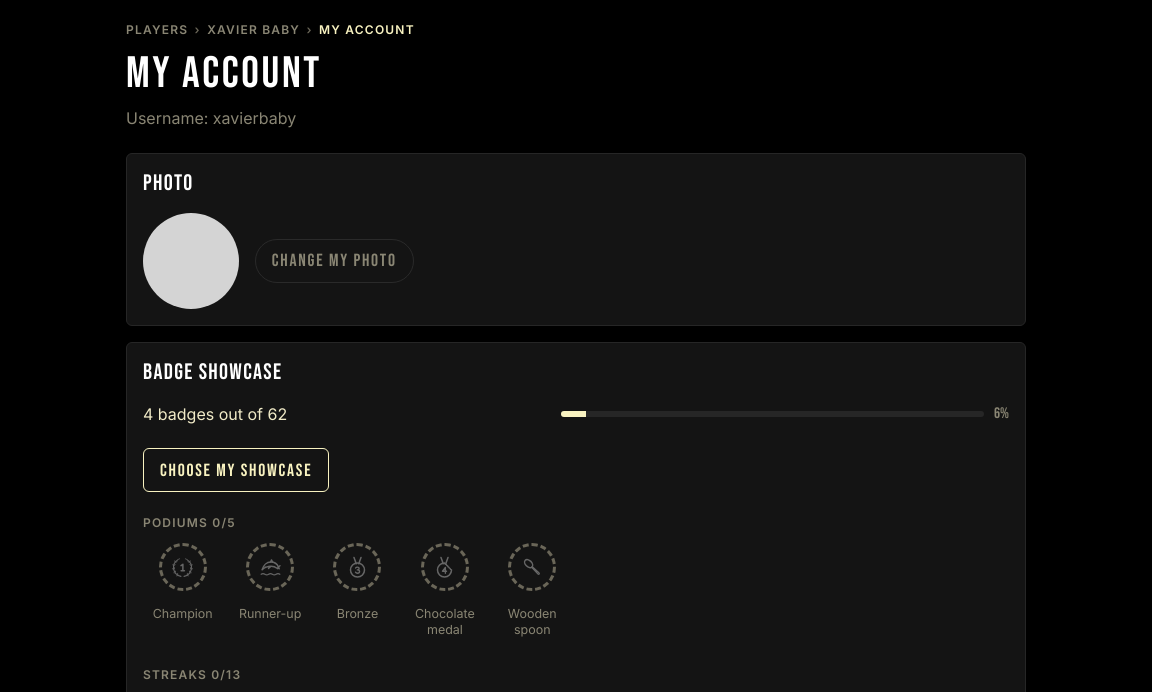
Test: account page › opens the photo editor from the photo section
Click the button "Change my photo" at (334, 261), box x1=255 y1=239 x2=414 y2=283
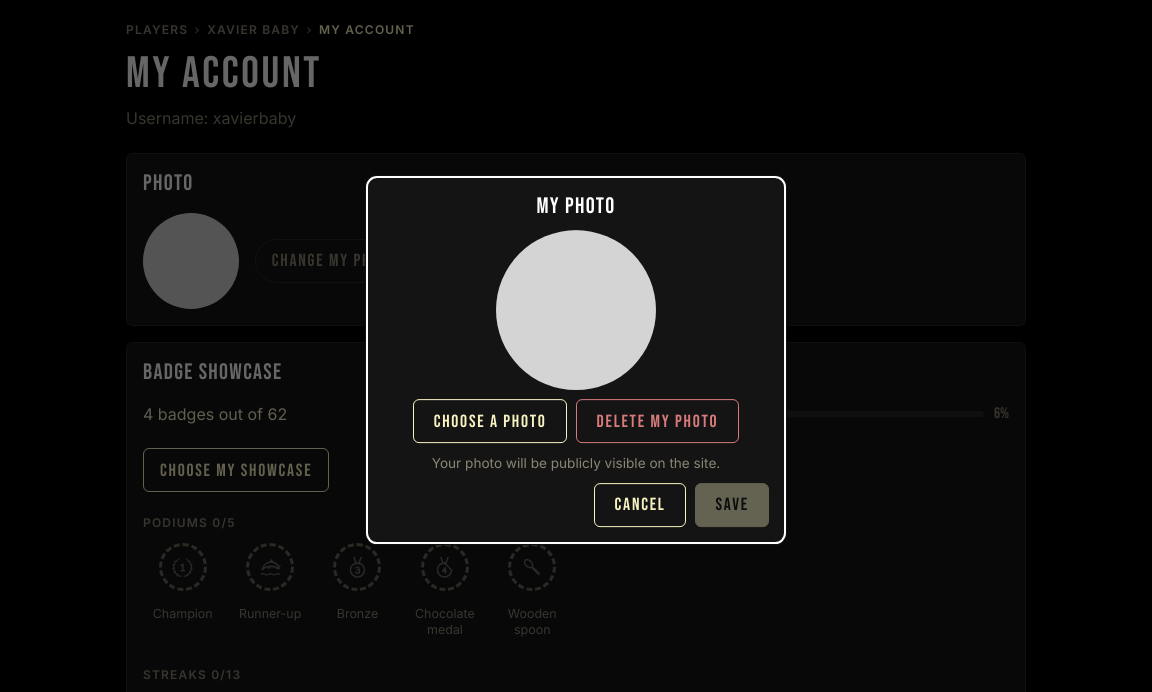
Now the dialog "My photo" is shown, box x1=366 y1=176 x2=786 y2=544
